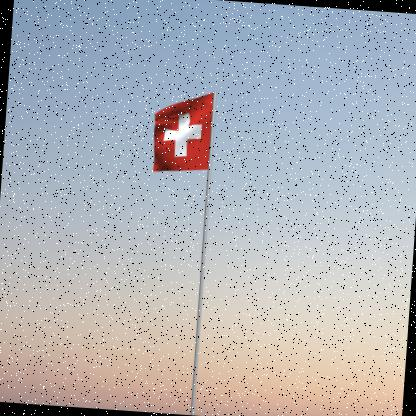ch: (152, 89, 215, 177)
